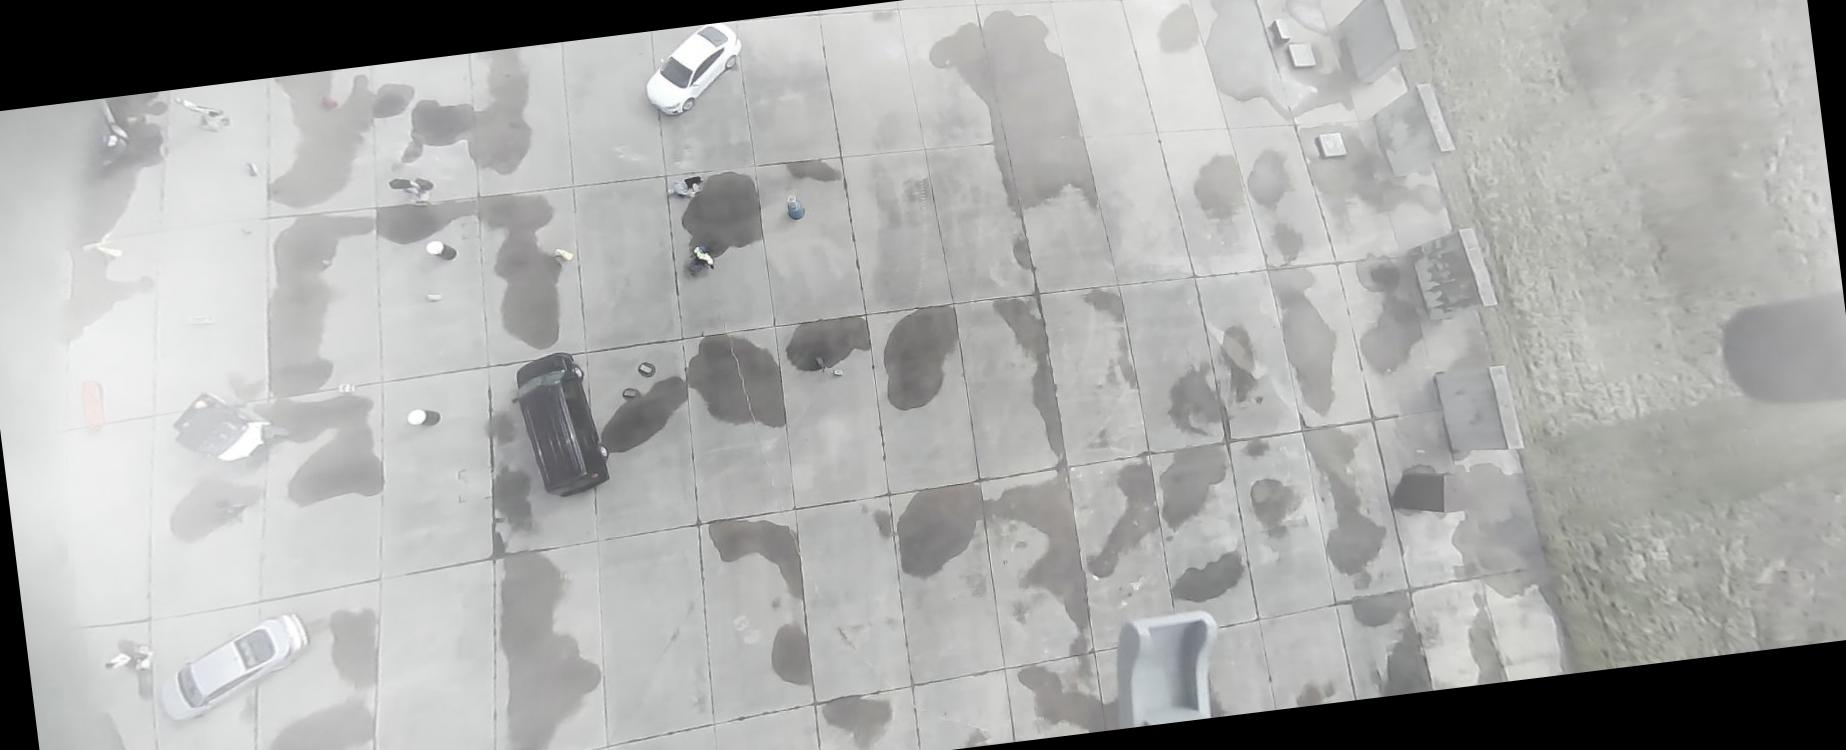vehicle: (151, 610, 317, 723), (505, 347, 613, 499), (166, 380, 293, 471), (638, 20, 749, 119), (72, 97, 133, 175)
